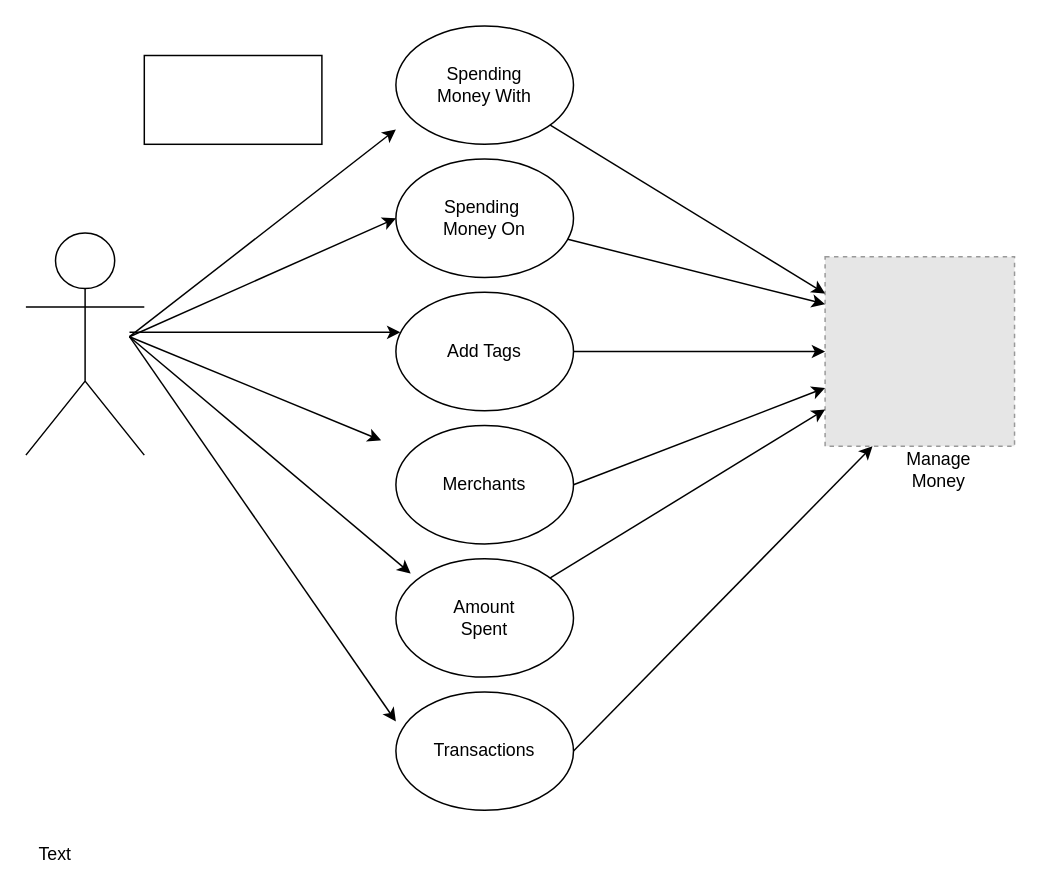
This 1040x895 diagram has some shape labels left out. Grey dashed boxes stand in for pictures. The shapes that lost their labels are listed below. From the top down, each one's box as (x1, y1, x2, y2) in pixels, then its label:
(143, 54, 322, 144): Spending Tracker
(24, 232, 144, 455): User
